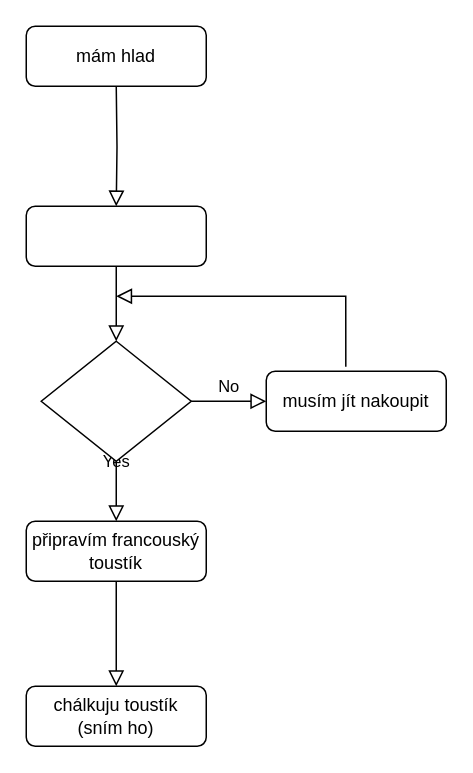
Image size: 473x773. Some labels were removed from this diagram. The shapes that lost their labels are listed below. From the top down, each one's box as (x1, y1, x2, y2) in pixels, then its label:
(25, 205, 206, 266): francouský toustík
(40, 340, 191, 461): mám ingredience?
